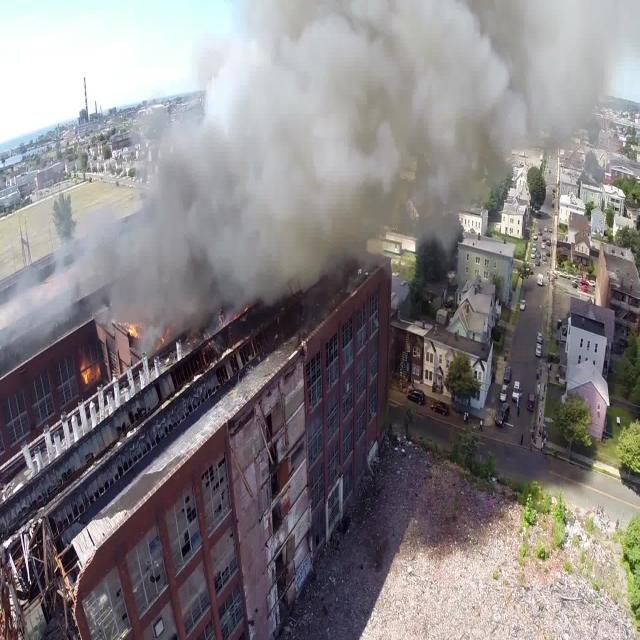Fire: (77, 360, 102, 393)
Smoke: (92, 0, 640, 334)
